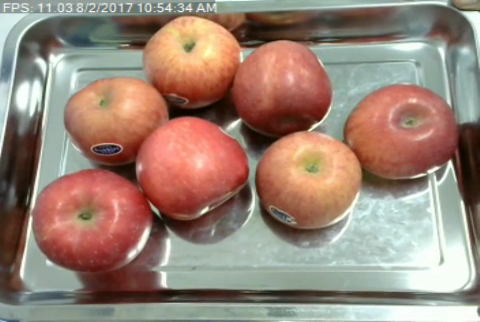Apple: (29, 169, 153, 270), (134, 115, 248, 221), (255, 129, 366, 230), (344, 82, 454, 183), (230, 37, 334, 136), (62, 76, 170, 165), (141, 15, 239, 109)
